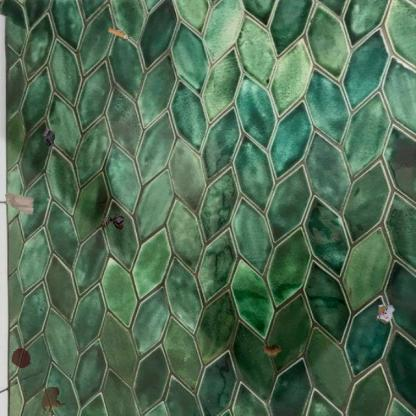dirty: (3, 190, 36, 216), (102, 212, 128, 231), (375, 302, 396, 325), (259, 342, 283, 358), (107, 26, 130, 42), (41, 126, 57, 148)
liquid: (40, 386, 67, 416), (10, 347, 32, 370)
